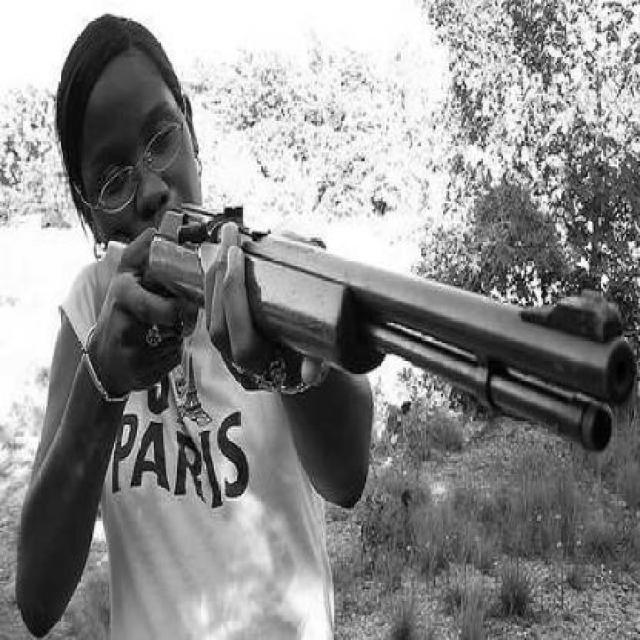weapon: (136, 203, 626, 460)
